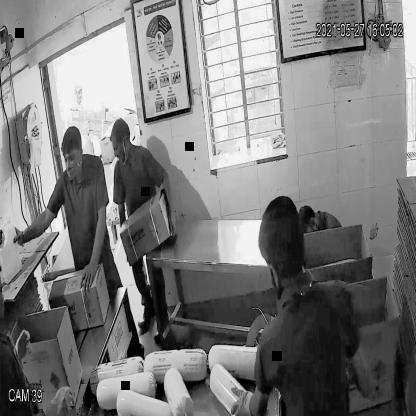no_goggles: (56, 146, 85, 172)
